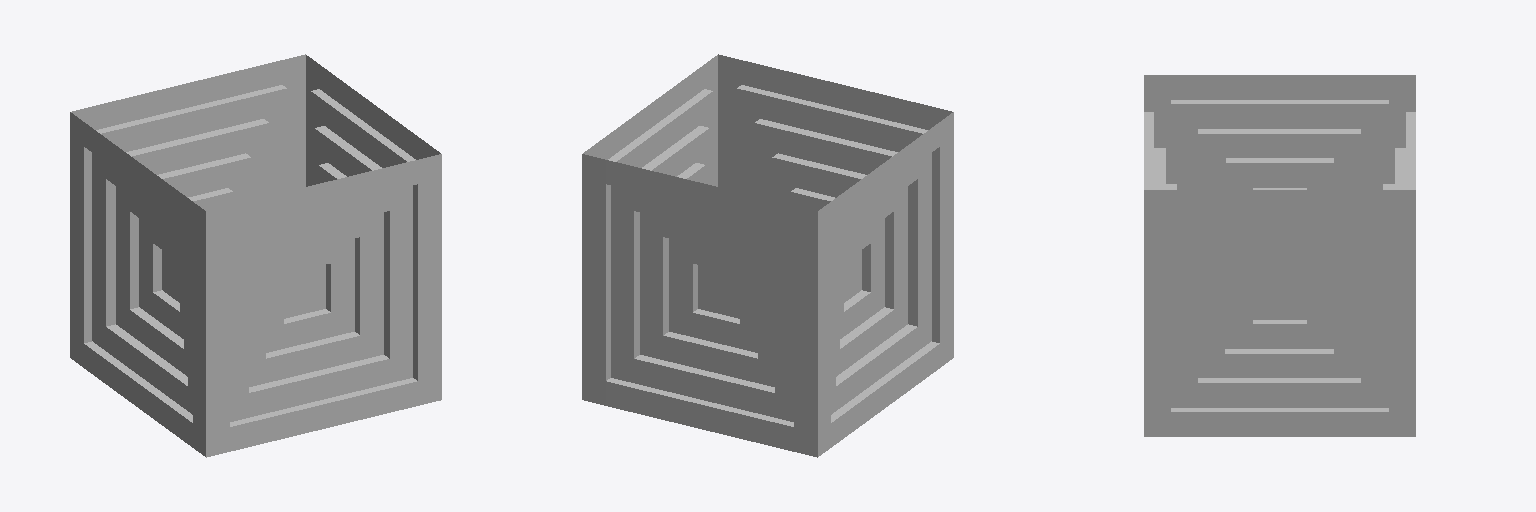
The model's file is cubeHypno.obj.
3 renders of one model, left to right at view 1: azimuth 30°, elevation 25°; view 2: azimuth 150°, elevation 25°; view 3: azimuth 270°, elevation 25°, orthographic.
Parts seen in each view (by area): view 1: polySurface13; view 2: polySurface13; view 3: polySurface13.
Part boxes in pixels (x1,y1,x2,y2): polySurface13: (70, 54, 441, 457); polySurface13: (582, 54, 953, 457); polySurface13: (1144, 75, 1415, 436).
Bounding box in the file's own units: 80.09 × 80 × 80.07.